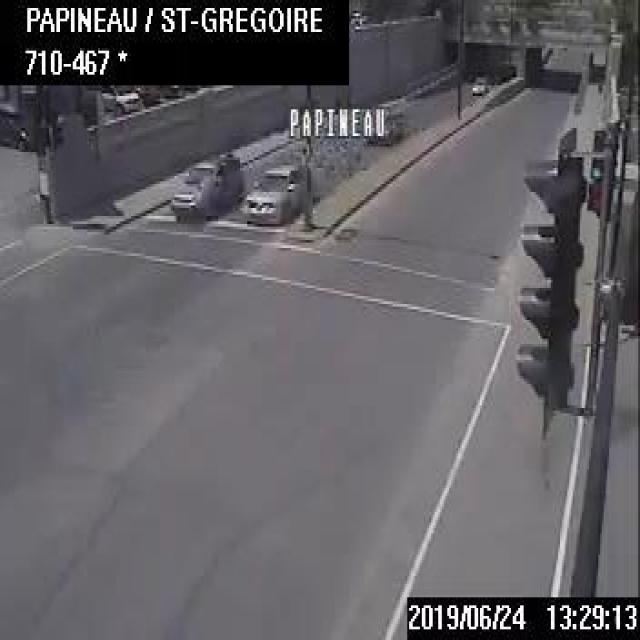vehicle: (167, 149, 242, 227), (242, 162, 309, 228), (362, 98, 405, 144), (0, 102, 40, 150), (98, 82, 144, 116), (467, 72, 489, 96)
